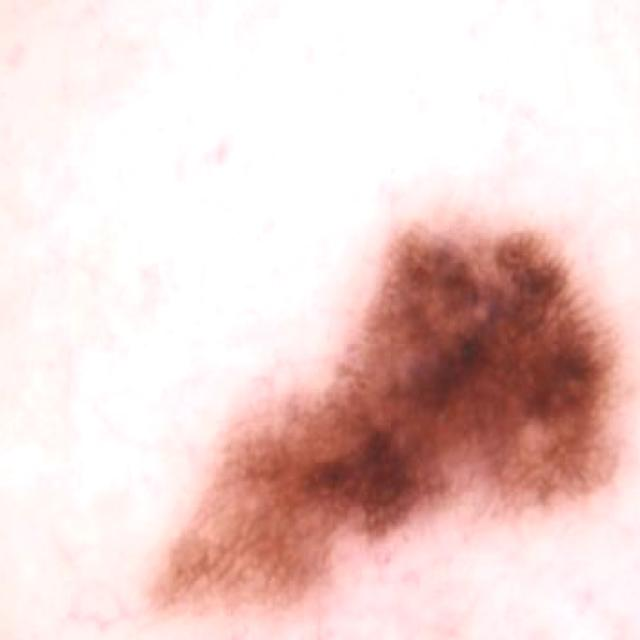NV: (92, 172, 640, 640)
